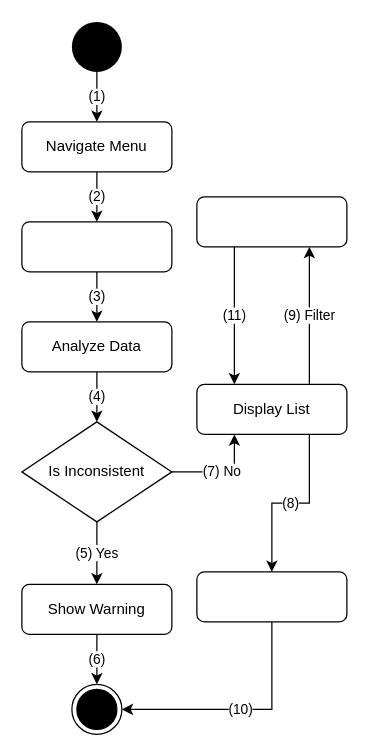
Image size: 369x756. Some labels were removed from this diagram. The centre of each missing label's shape, as x and y in pixels:
"Apply Filter" goes at pixel 271 221.
"Select Semester" goes at pixel 96 246.
"Select Student" goes at pixel 271 596.
